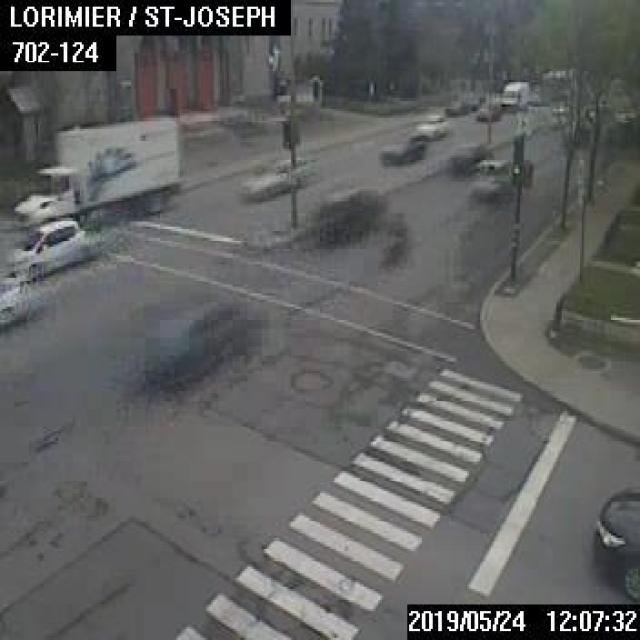vehicle: (11, 115, 176, 226), (139, 297, 252, 394), (592, 489, 638, 602), (8, 218, 87, 282), (311, 186, 381, 242), (236, 155, 305, 200), (379, 209, 408, 265), (472, 159, 509, 200), (378, 132, 425, 163), (448, 140, 492, 172), (0, 276, 24, 328), (499, 80, 528, 109), (416, 113, 448, 137), (474, 102, 500, 120), (442, 98, 467, 114)
